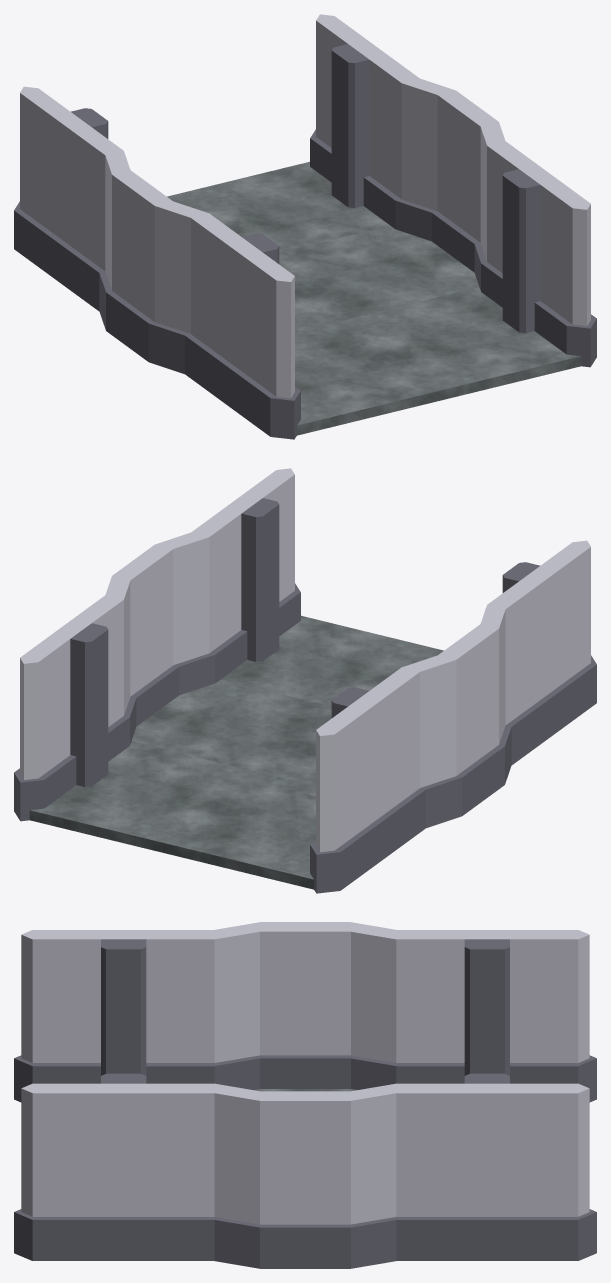
File: hallway_08.fbx
3 renders of one model, top to bottom at view 1: azimuth 30°, elevation 25°; view 2: azimuth 150°, elevation 25°; view 3: azimuth 270°, elevation 25°, orthographic. The views are drawn at different scales.
Visible parts, largest first — view 1: floor_04_56, wall_02_63, wall_02_61, wall_02_64, wall_03_65, wall_02_62, wall_03_66, floor_06_55, floor_04_59; view 2: floor_04_59, wall_02_64, wall_02_62, wall_02_63, wall_03_65, wall_02_61, wall_03_66, floor_06_55, floor_04_56; view 3: wall_02_61, wall_02_62, wall_03_66, wall_03_65, wall_02_64, wall_02_63.
Part boxes in pixels (x1,y1,x2,y2): floor_04_56: [295, 287, 581, 435]; wall_02_63: [185, 212, 300, 439]; wall_02_61: [481, 139, 596, 367]; wall_02_64: [14, 86, 123, 311]; wall_03_65: [99, 150, 208, 374]; wall_02_62: [310, 14, 419, 228]; wall_03_66: [395, 77, 505, 290]; floor_06_55: [279, 225, 479, 342]; floor_04_59: [167, 161, 403, 252]; floor_04_59: [29, 741, 315, 889]; wall_02_64: [310, 666, 425, 893]; wall_02_62: [14, 593, 129, 821]; wall_02_63: [487, 540, 596, 765]; wall_03_65: [402, 605, 511, 828]; wall_02_61: [191, 468, 300, 682]; wall_03_66: [105, 531, 215, 744]; floor_06_55: [131, 679, 331, 796]; floor_04_56: [207, 615, 443, 706]; wall_02_61: [14, 1073, 224, 1260]; wall_02_62: [387, 1073, 596, 1260]; wall_03_66: [203, 1083, 407, 1268]; wall_03_65: [204, 922, 404, 1089]; wall_02_64: [385, 930, 596, 1102]; wall_02_63: [14, 930, 225, 1102].
Bounding box in the file's own units: 24.05 × 10 × 32.05.
